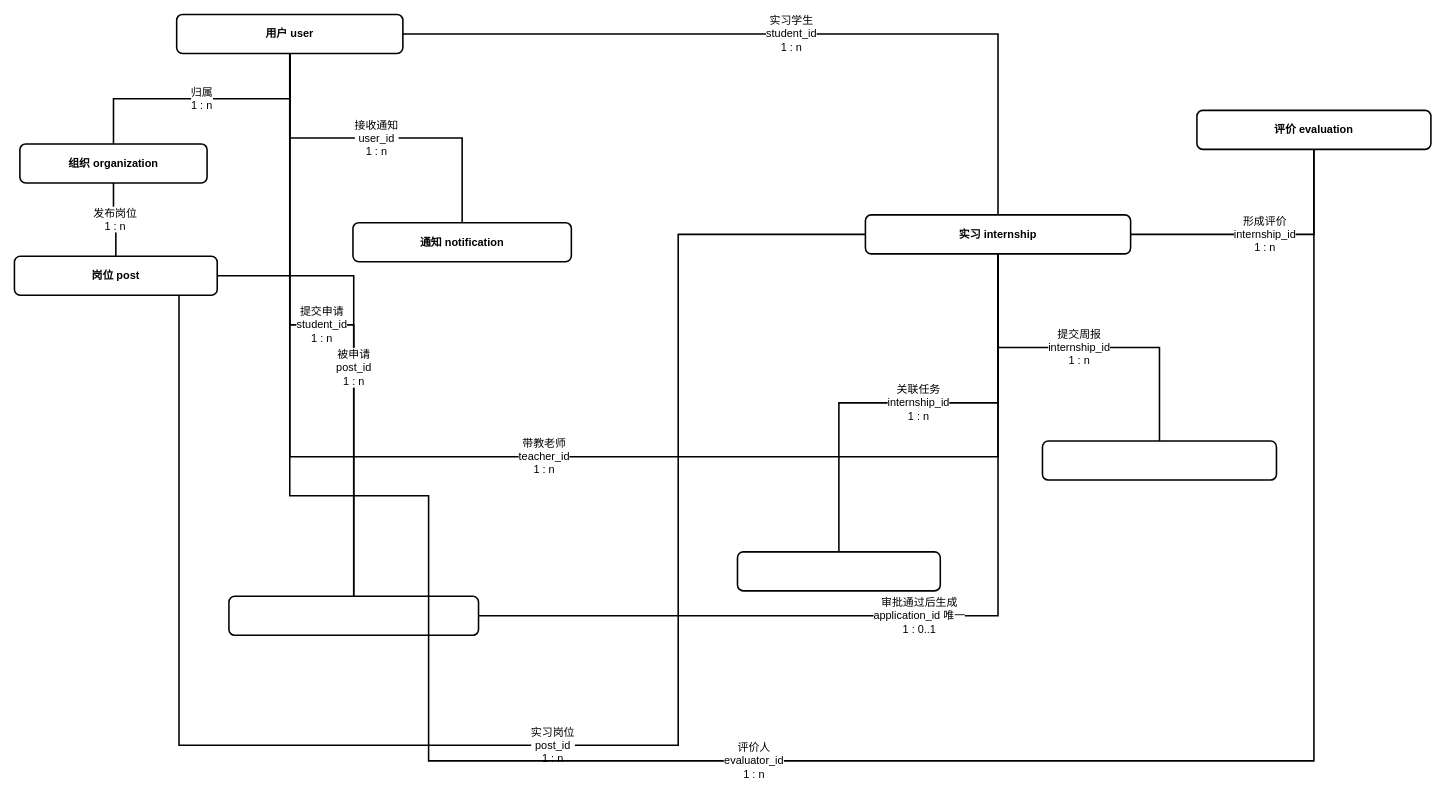
The diagram is 1445 pixels wide and 793 high, and some of its shapes have lost their labels. The box of each missing label's shape, as (x1, y1, x2, y2) in pixels:
任务 task: (736, 551, 941, 591)
周报 weekly_report: (1041, 440, 1277, 480)
申请 application: (228, 595, 479, 636)
